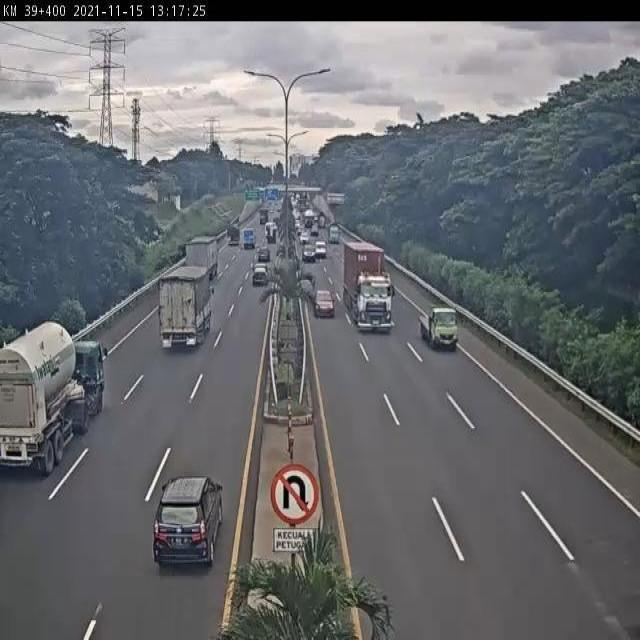Car: (149, 473, 229, 570), (313, 290, 336, 318), (252, 264, 269, 286), (302, 245, 316, 262), (314, 241, 326, 258), (257, 247, 270, 262), (300, 230, 310, 244), (310, 224, 319, 236)
Truck: (0, 324, 108, 481), (152, 262, 212, 351), (343, 245, 391, 332), (186, 235, 225, 284), (420, 304, 458, 349), (224, 214, 243, 247), (324, 219, 343, 248), (243, 227, 257, 249)
